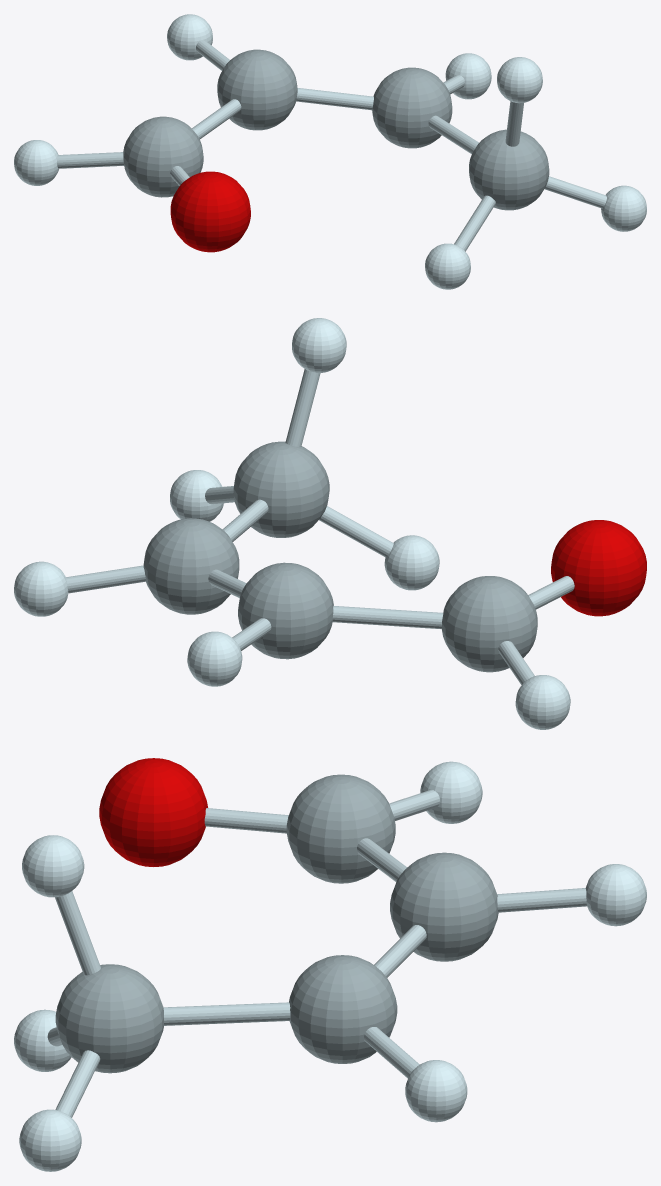
Rendered from irc_034.glb.
3 renders of one model, top to bottom at view 1: azimuth 30°, elevation 25°; view 2: azimuth 150°, elevation 25°; view 3: azimuth 270°, elevation 25°, orthographic. The views are drawn at different scales.
Visible parts, largest first — view 1: Renderer Node; view 2: Renderer Node; view 3: Renderer Node.
Boxes of the visible parts, x1=… form: Renderer Node: x1=14, y1=14, x2=646, y2=289; Renderer Node: x1=14, y1=318, x2=646, y2=729; Renderer Node: x1=14, y1=758, x2=646, y2=1171.
Bounding box in the file's own units: 4.77 × 1.98 × 4.05.
